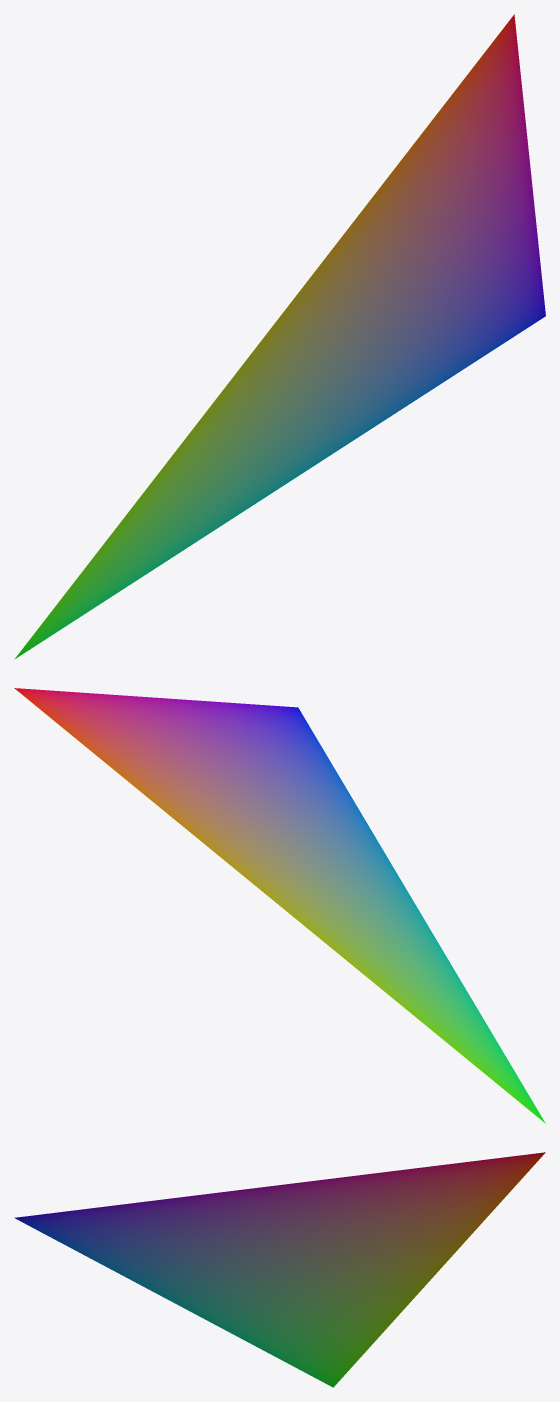
The model's file is face_cleaning_conquest_49.obj.
3 views of the same model, one above another, from view 1: azimuth 30°, elevation 25°; view 2: azimuth 150°, elevation 25°; view 3: azimuth 270°, elevation 25° (orthographic). The views are drawn at different scales.
Bounding box in the file's own units: 0.9272 × 0.691 × 0.5296.
